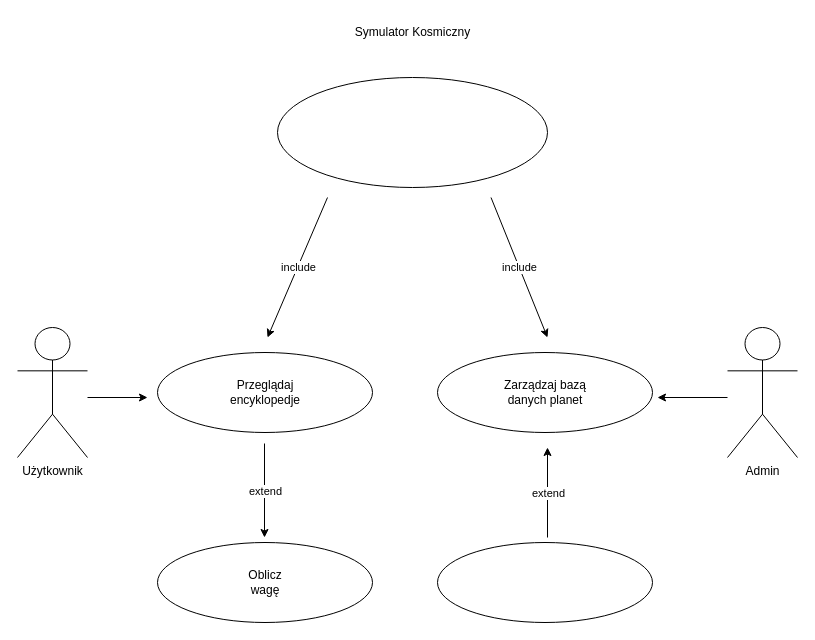
The diagram is 815 pixels wide and 640 high, and some of its shapes have lost their labels. The shapes that lost their labels are listed below. From the top down, each one's centre as x and y in pixels, then its label:
At [412,132]: "Wyszukaj / wybierz ciało".
At [544,582]: "Generuj raport".
